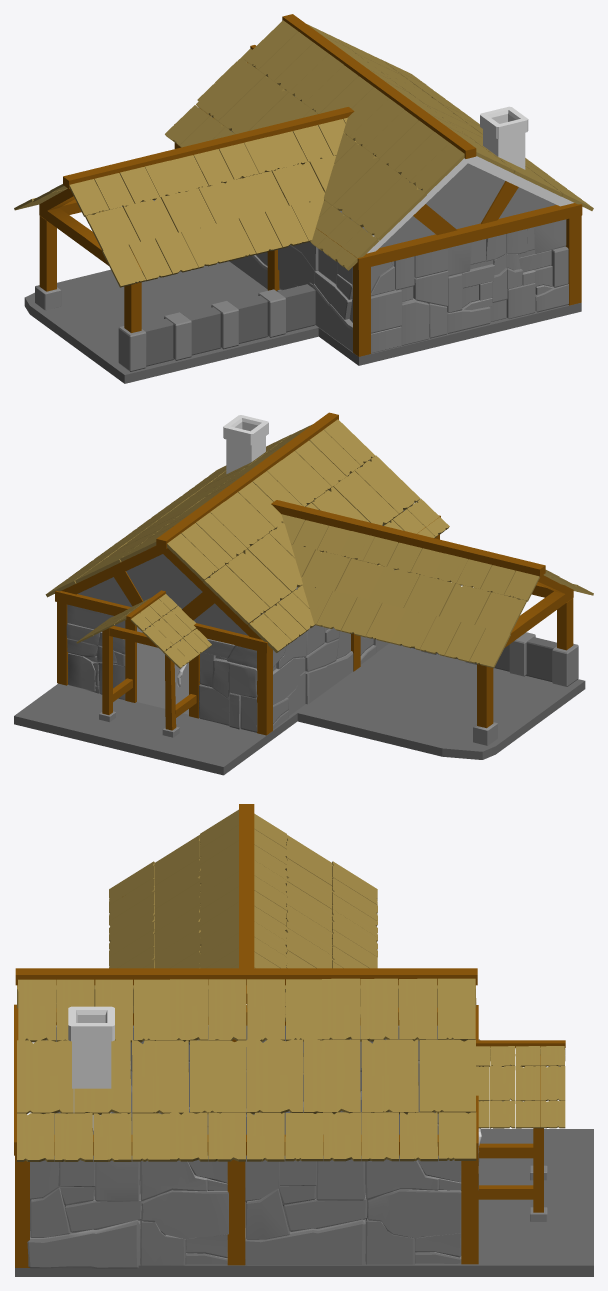
The model's file is black smith!.fbx.
The picture shows the model from 3 angles, top to bottom: view 1: azimuth 30°, elevation 25°; view 2: azimuth 150°, elevation 25°; view 3: azimuth 270°, elevation 25°; orthographic projection. The views are drawn at different scales.
Parts seen in each view (by area): view 1: wall, this thing, Roof, Roof.001, H frame, roof.001, roof, roof.002, roof ding, Roof.002, stone fence, wall.006 (+6 smaller); view 2: this thing, Roof, Roof.001, H frame, roof.001, roof.002, roof, roof ding, wall.005, Roof.002, wall.004, roof middle (+10 smaller); view 3: Roof.001, Roof, Roof.002, wall.001, wall.002, this thing, roof.001, roof, roof.002, roof ding, H frame, s roof (×2) (+4 smaller).
Boxes of the visible parts, bbox=[...] form: wall: bbox=[371, 219, 568, 353]; this thing: bbox=[24, 200, 581, 383]; Roof: bbox=[243, 20, 514, 194]; Roof.001: bbox=[196, 37, 562, 240]; H frame: bbox=[39, 118, 582, 356]; roof.001: bbox=[33, 155, 376, 250]; roof: bbox=[50, 117, 356, 216]; roof.002: bbox=[14, 197, 323, 287]; roof ding: bbox=[63, 14, 476, 188]; Roof.002: bbox=[165, 59, 593, 270]; stone fence: bbox=[141, 284, 315, 366]; wall.006: bbox=[277, 242, 352, 351]; this thing: bbox=[14, 587, 585, 775]; Roof: bbox=[120, 419, 374, 581]; Roof.001: bbox=[75, 435, 420, 624]; H frame: bbox=[55, 512, 573, 735]; roof.001: bbox=[236, 544, 575, 633]; roof.002: bbox=[302, 583, 593, 668]; roof: bbox=[281, 514, 559, 601]; roof ding: bbox=[156, 412, 545, 576]; wall.005: bbox=[273, 625, 353, 729]; Roof.002: bbox=[45, 465, 449, 652]; wall.004: bbox=[199, 639, 257, 732]; roof middle: bbox=[78, 475, 415, 635]; Roof.001: bbox=[17, 985, 475, 1114]; Roof: bbox=[18, 978, 475, 1042]; Roof.002: bbox=[17, 998, 476, 1161]; wall.001: bbox=[245, 1155, 461, 1265]; wall.002: bbox=[27, 1155, 228, 1268]; this thing: bbox=[15, 1129, 593, 1276]; roof.001: bbox=[154, 835, 332, 1021]; roof: bbox=[200, 809, 286, 1020]; roof.002: bbox=[109, 861, 377, 1017]; roof ding: bbox=[15, 804, 477, 1003]; H frame: bbox=[14, 1004, 478, 1267]; s roof (×2): bbox=[476, 1046, 565, 1101].
Size of the model in its own units: 198 by 84.19 by 181.
